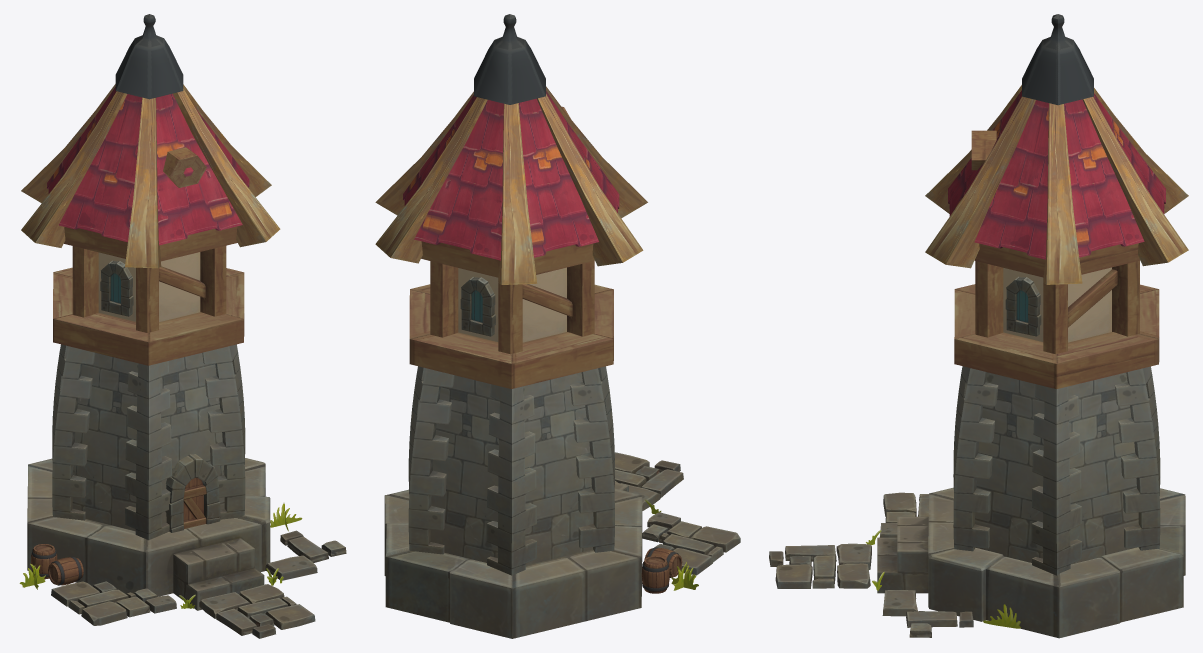
The model's file is windmill.FBX.
3 views of the same model, side by side, from view 1: azimuth 30°, elevation 25°; view 2: azimuth 150°, elevation 25°; view 3: azimuth 270°, elevation 25° (orthographic). The views are drawn at different scales.
Visible parts, largest first — view 1: polySurface103; view 2: polySurface103; view 3: polySurface103.
Part boxes in pixels (x1,y1,x2,y2): polySurface103: (19, 14, 346, 638); polySurface103: (375, 14, 740, 638); polySurface103: (769, 14, 1188, 638).
Bounding box in the file's own units: 1661 × 2868 × 1938.
Materials: 3 (3 with a texture image).
